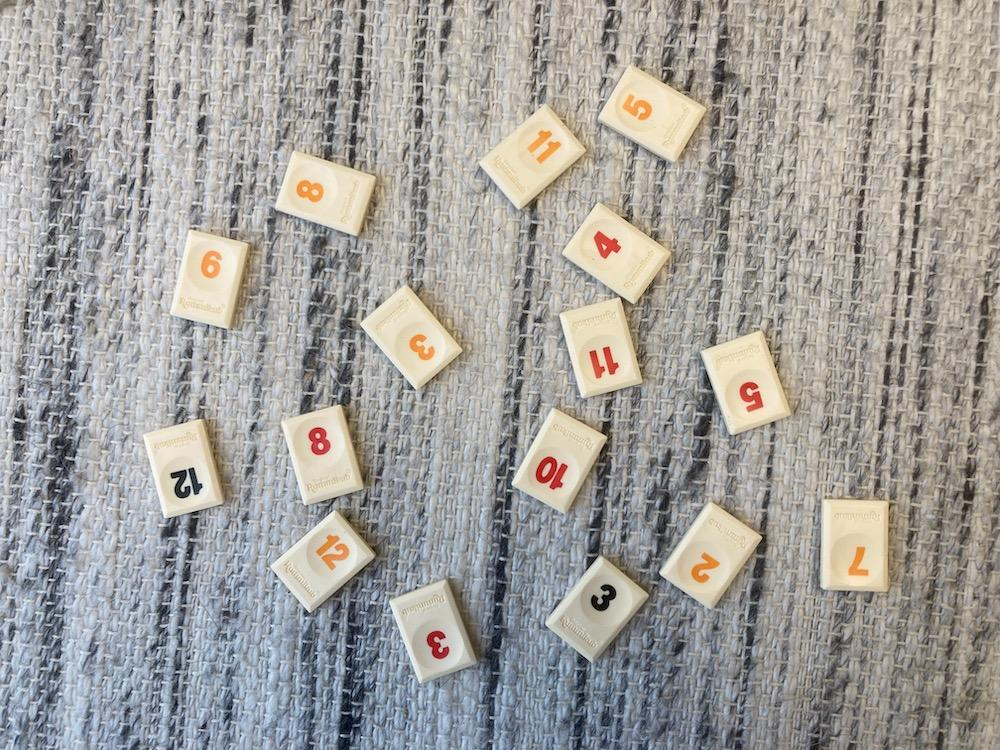black_12: (143, 420, 223, 518)
black_3: (547, 557, 648, 662)
orange_11: (479, 105, 586, 209)
orange_12: (271, 512, 375, 611)
orange_2: (660, 502, 762, 607)
orange_3: (361, 285, 461, 389)
orange_5: (598, 64, 705, 162)
orange_6: (170, 230, 248, 328)
orange_7: (820, 501, 889, 592)
orange_8: (275, 150, 375, 236)
red_10: (512, 408, 607, 512)
red_11: (561, 299, 643, 398)
red_3: (392, 580, 477, 682)
red_4: (562, 203, 670, 303)
red_5: (701, 332, 791, 434)
red_8: (281, 406, 363, 504)
